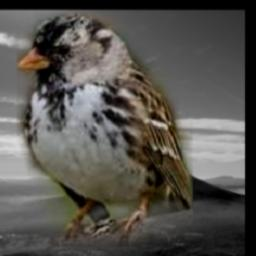Sparrow: (17, 14, 193, 246)
